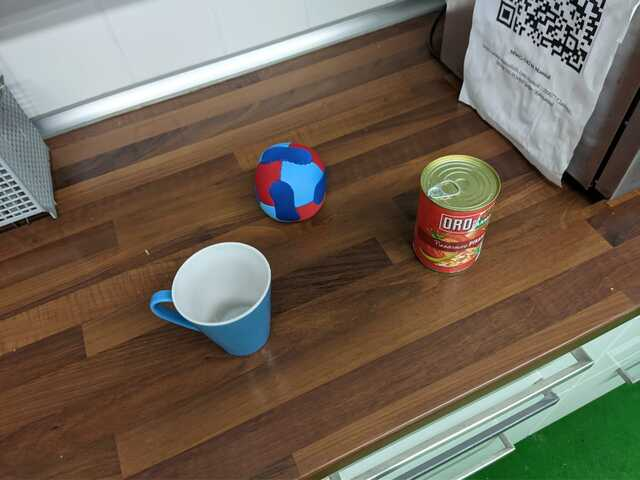005_tomato_soup_can: (411, 153, 502, 273)
025_mug: (149, 241, 272, 358)
057_racquetball: (253, 141, 327, 223)
